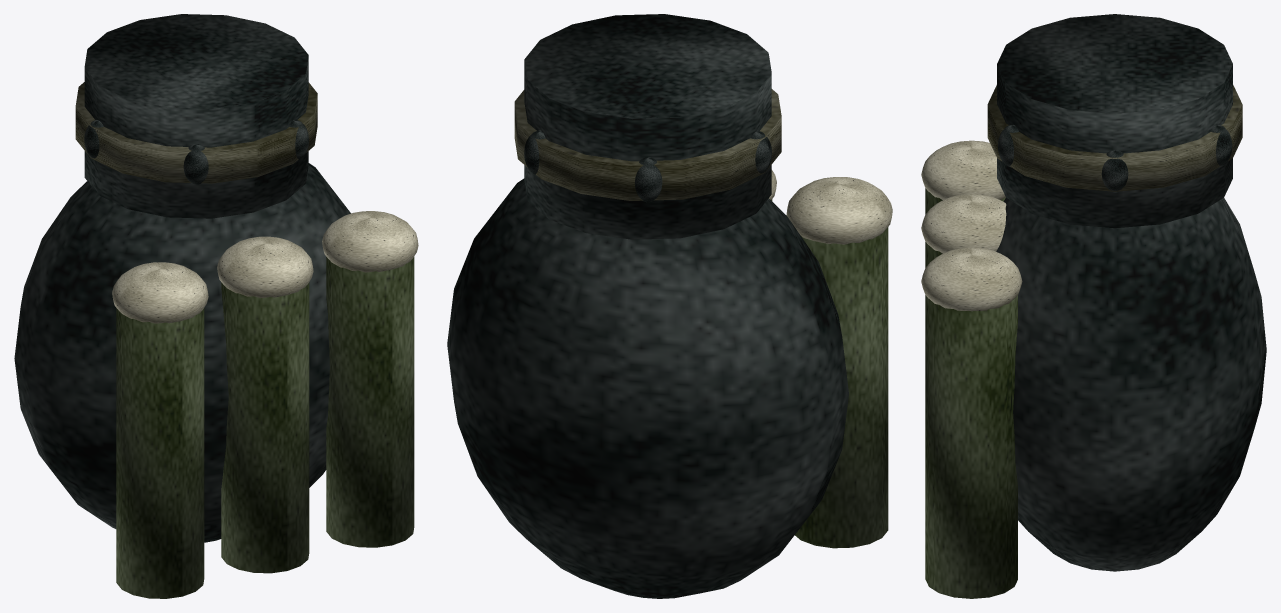
File: organ-regen.glb
The picture shows the model from 3 angles, left to right: view 1: azimuth 30°, elevation 25°; view 2: azimuth 150°, elevation 25°; view 3: azimuth 270°, elevation 25°; orthographic projection. The views are drawn at different scales.
Visible parts, largest first — view 1: organ-regen; view 2: organ-regen; view 3: organ-regen.
Boxes of the visible parts, bbox=[...] form: organ-regen: bbox=[14, 14, 418, 598]; organ-regen: bbox=[447, 14, 892, 598]; organ-regen: bbox=[921, 14, 1266, 598].
Size of the model in its own units: 0.48 by 0.645 by 0.41.
Materials: 4 (4 with a texture image).
